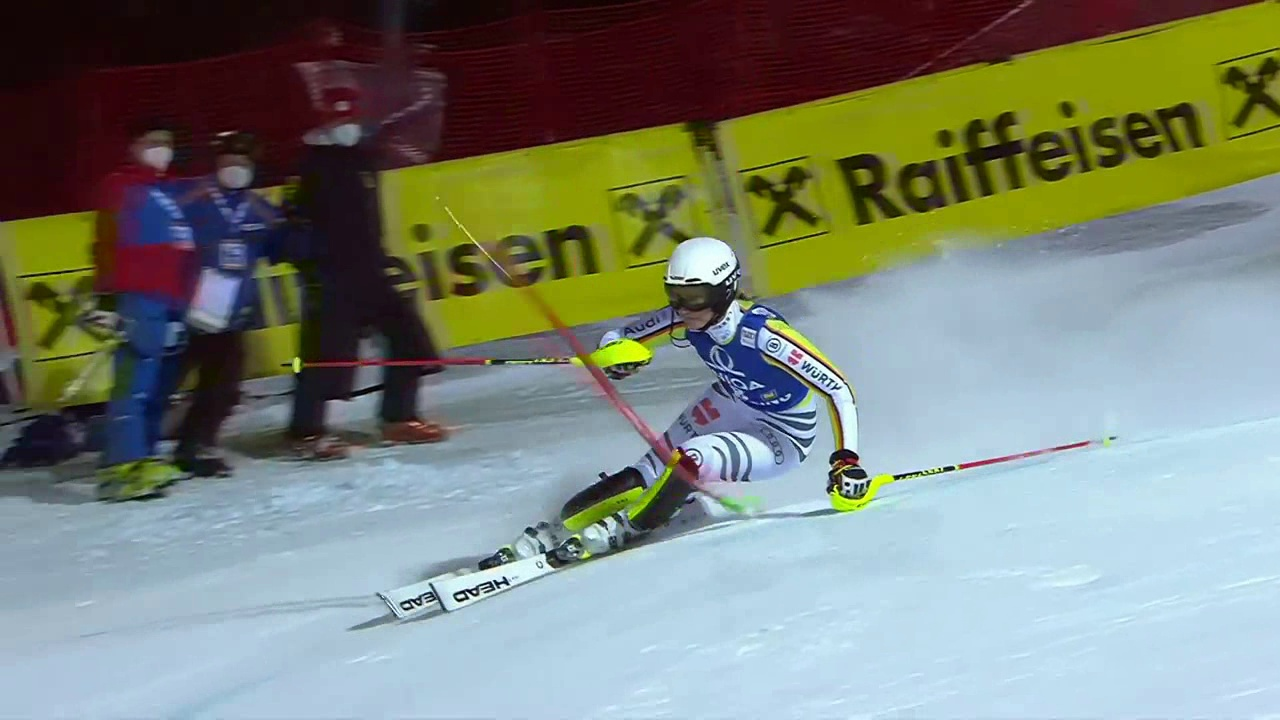raiffeisen: (809, 67, 1224, 248), (430, 175, 834, 303), (16, 263, 130, 383), (1214, 43, 1279, 137)
